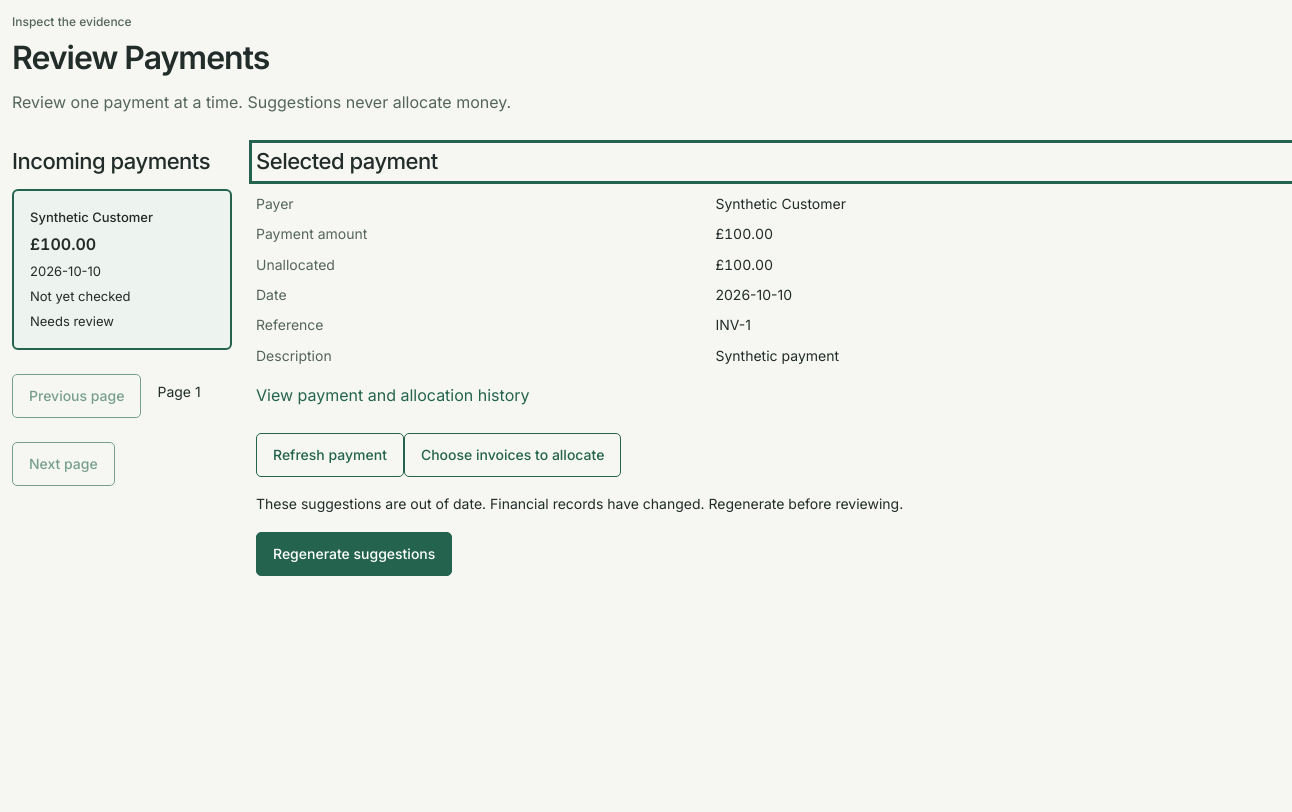
Test: hides stale candidates and offers regeneration
This screenshot has width=1292, height=812.
Step 1. Click the button "Regenerate suggestions" → click(354, 554), box top-left (256, 532), bottom-right (452, 576)
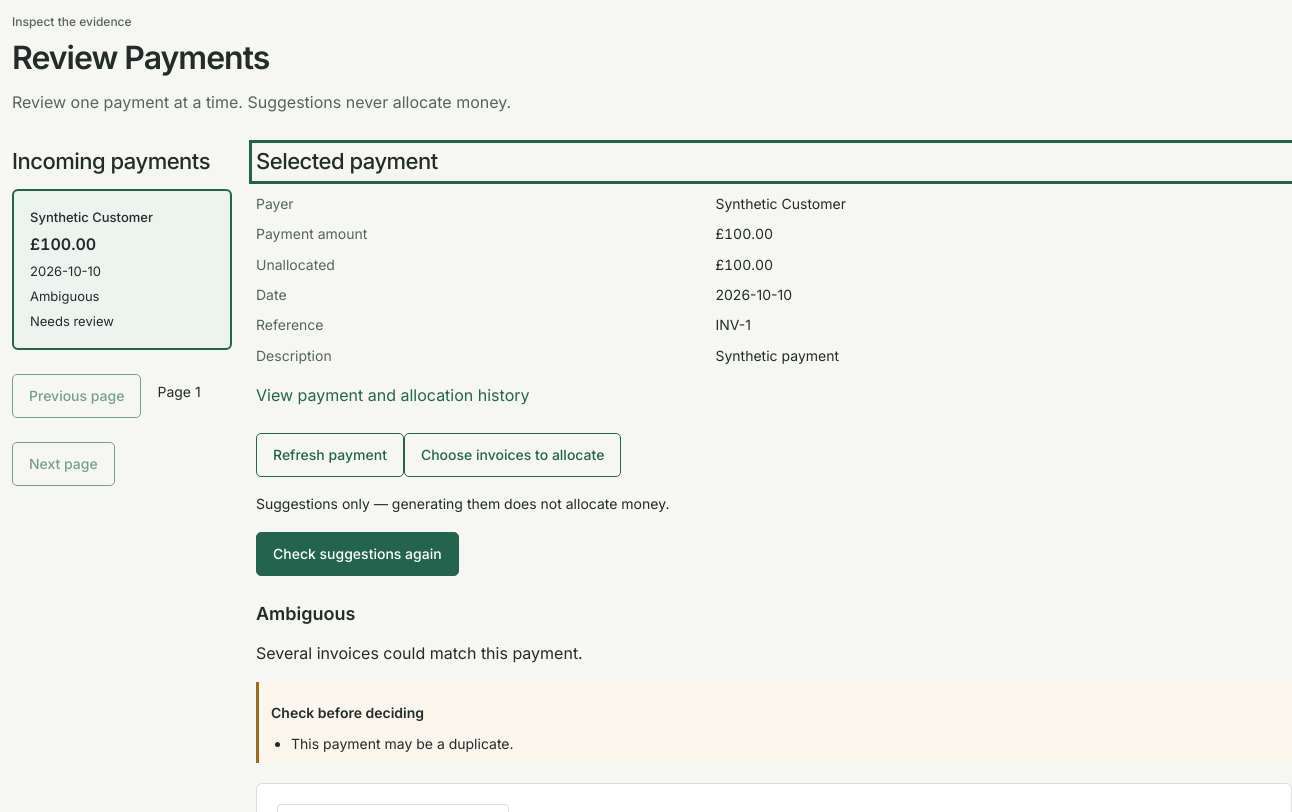
Now the heading "Ambiguous" is shown, box top-left (256, 603), bottom-right (355, 624)
